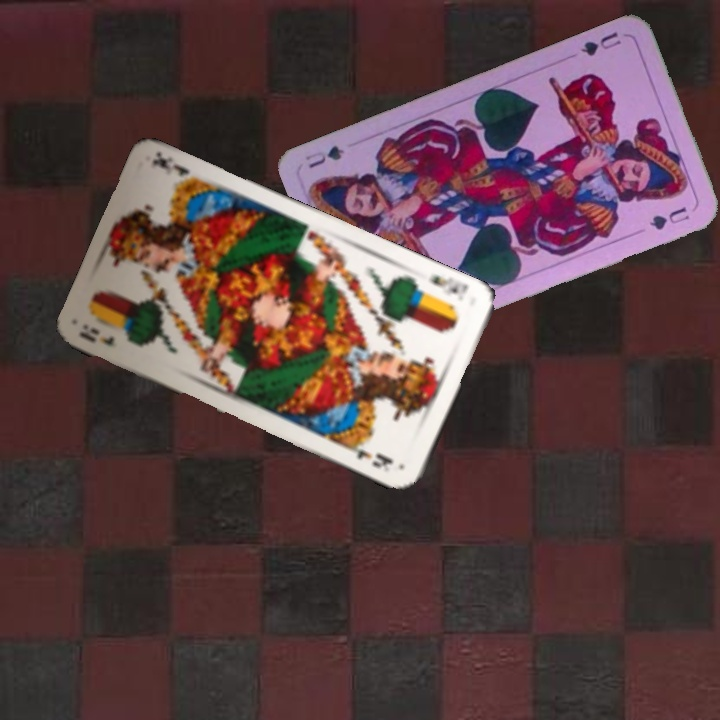EK: (424, 271, 471, 304), (76, 320, 117, 349)
GU: (576, 27, 624, 59)
